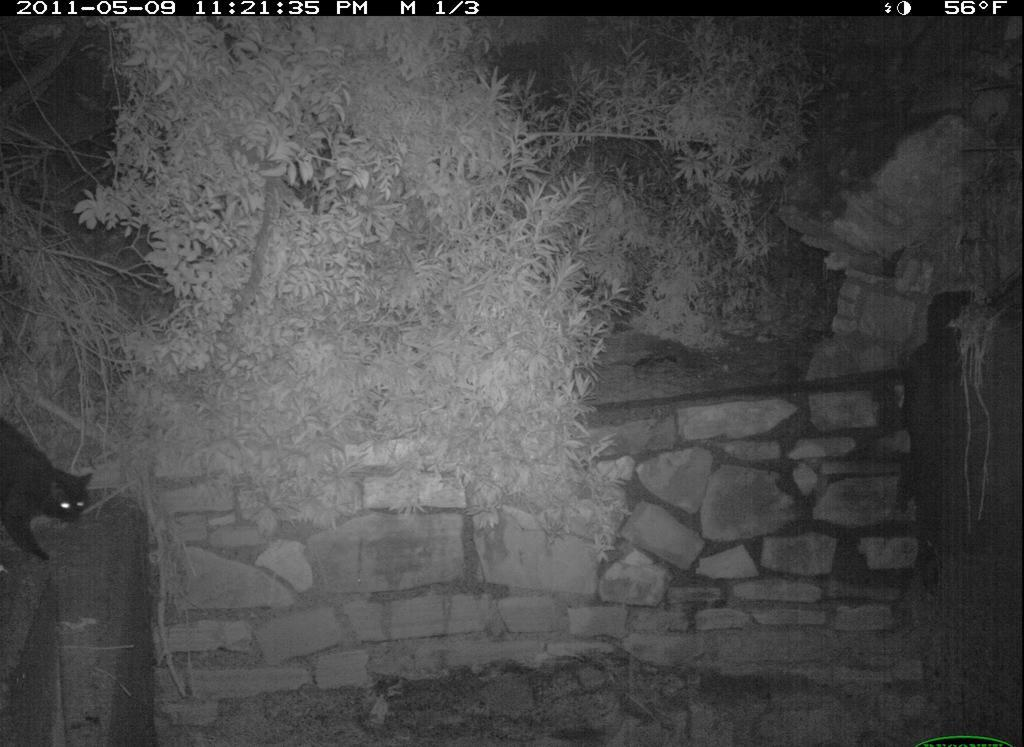cat: (6, 410, 117, 591)
